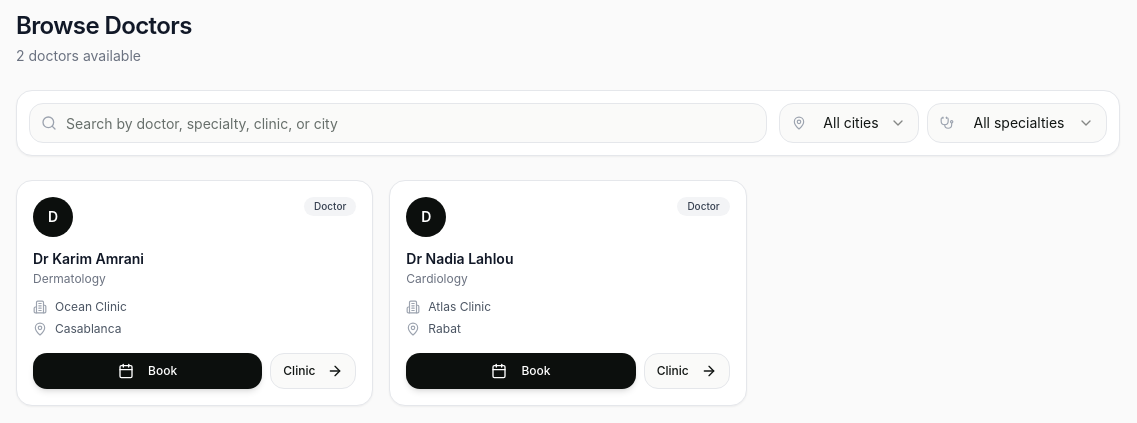
Test: DoctorDirectory › filters the doctor list from the search input
The width and height of the screenshot is (1137, 423).
Expected: the heading "Dr Nadia Lahlou" is shown, [406, 250, 513, 267]
Expected: the heading "Dr Karim Amrani" is shown, [33, 250, 144, 267]
Type "casablanca" into the field with placeholder "Search by doctor, specialty, clinic, or city" at coordinates (398, 123), box [29, 103, 767, 143]
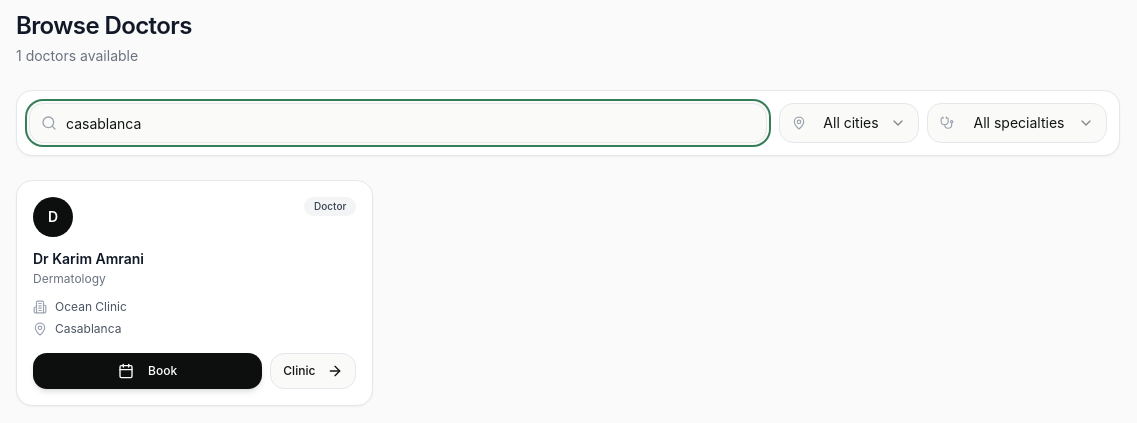
Expected: the heading "Dr Karim Amrani" is shown, [33, 250, 144, 267]
Now the heading "Dr Nadia Lahlou" is gone
